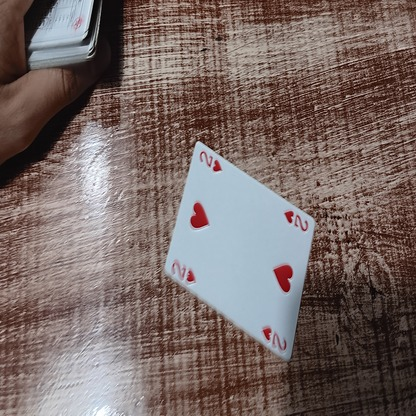2h: (260, 321, 288, 353), (195, 147, 222, 174), (168, 258, 196, 283), (282, 207, 308, 232)
